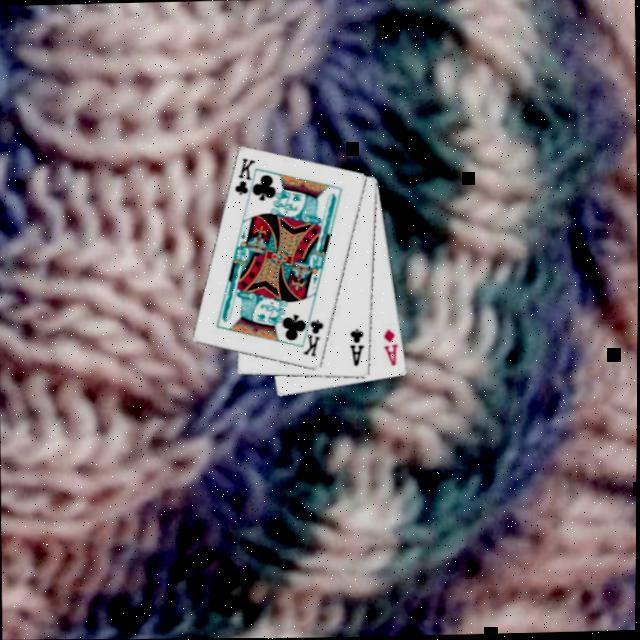AC: (348, 326, 368, 368)
AD: (382, 325, 402, 367)
KC: (231, 154, 262, 204), (298, 310, 328, 358)
